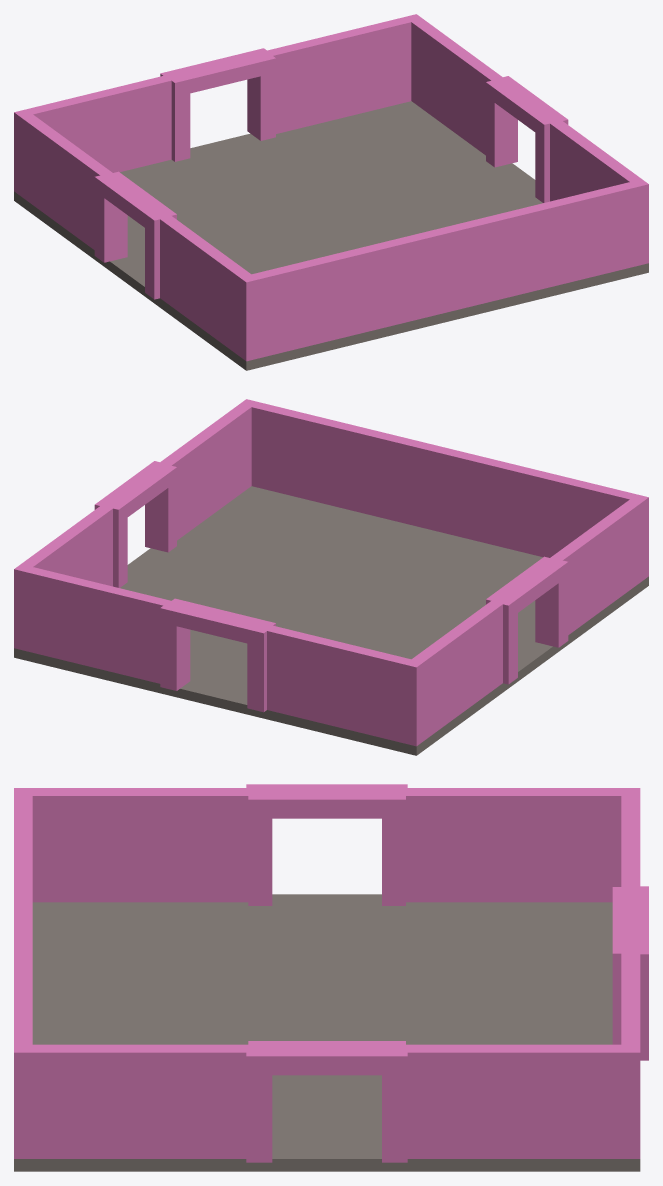
File: room_3ways.fbx
3 views of the same model, one above another, from view 1: azimuth 30°, elevation 25°; view 2: azimuth 150°, elevation 25°; view 3: azimuth 270°, elevation 25° (orthographic). The views are drawn at different scales.
Visible parts, largest first — view 1: room_3ways; view 2: room_3ways; view 3: room_3ways.
Boxes of the visible parts, x1,y1,x2,y2 form: room_3ways: [14, 14, 648, 370]; room_3ways: [14, 399, 648, 755]; room_3ways: [14, 784, 648, 1171].
Bounding box in the file's own units: 2056 × 420 × 2028.
